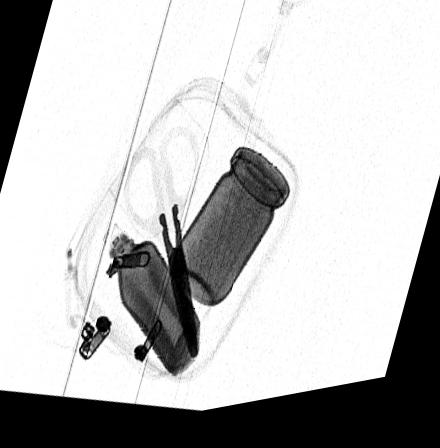Scissors: (123, 131, 200, 366)
